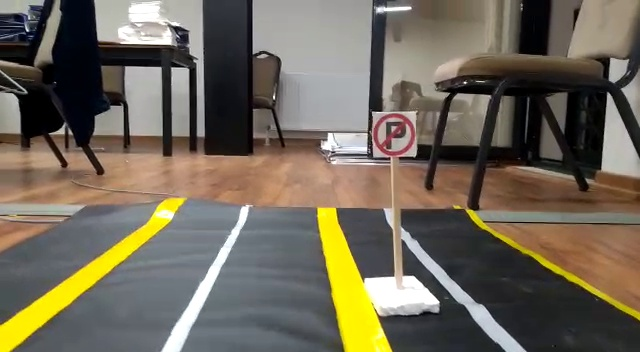park_yapilmaz: (370, 111, 417, 159)
